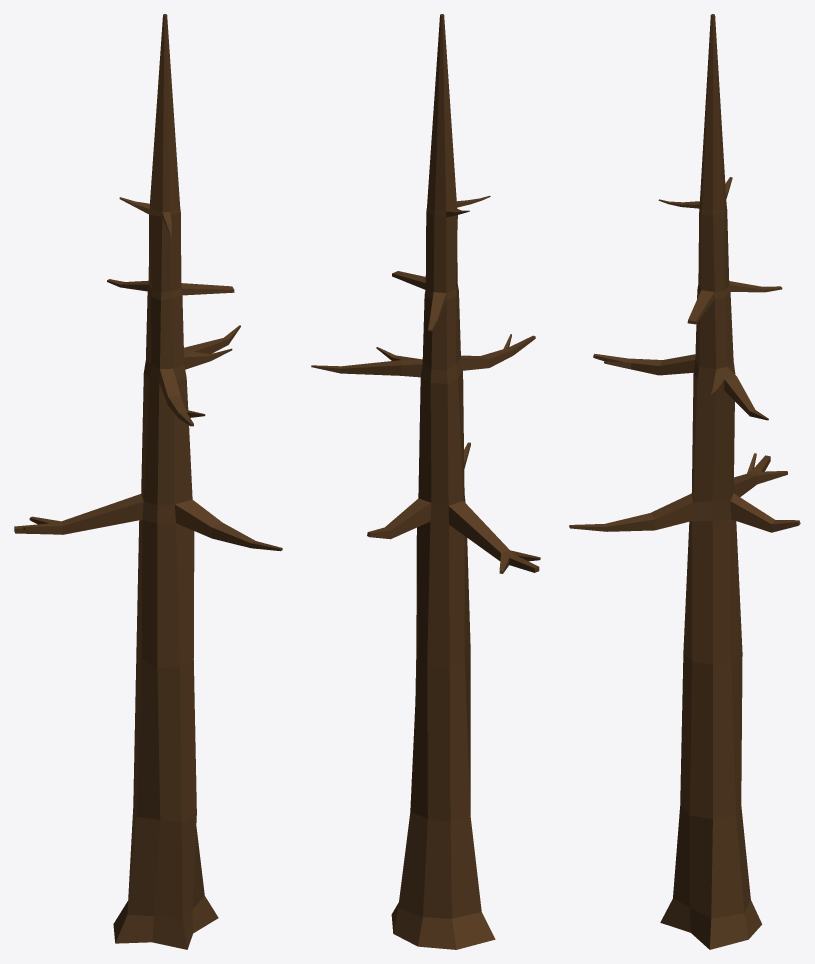
Rendered from Tree_1.fbx.
3 views of the same model, side by side, from view 1: azimuth 30°, elevation 25°; view 2: azimuth 150°, elevation 25°; view 3: azimuth 270°, elevation 25° (orthographic).
Visible parts, largest first — view 1: Tree_1; view 2: Tree_1; view 3: Tree_1.
Part boxes in pixels (bbox=[...]): Tree_1: bbox=[14, 14, 282, 949]; Tree_1: bbox=[311, 14, 540, 949]; Tree_1: bbox=[569, 14, 800, 949].
Bounding box in the file's own units: 199 × 766 × 176.
